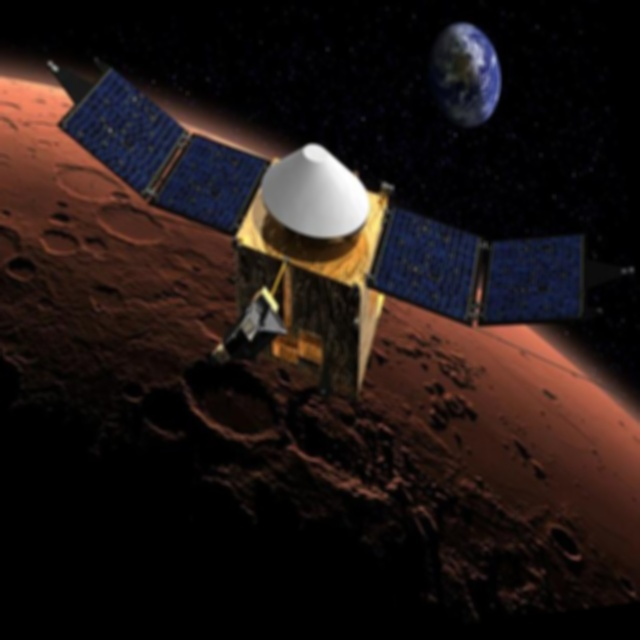medium_debris: (36, 0, 618, 463)
